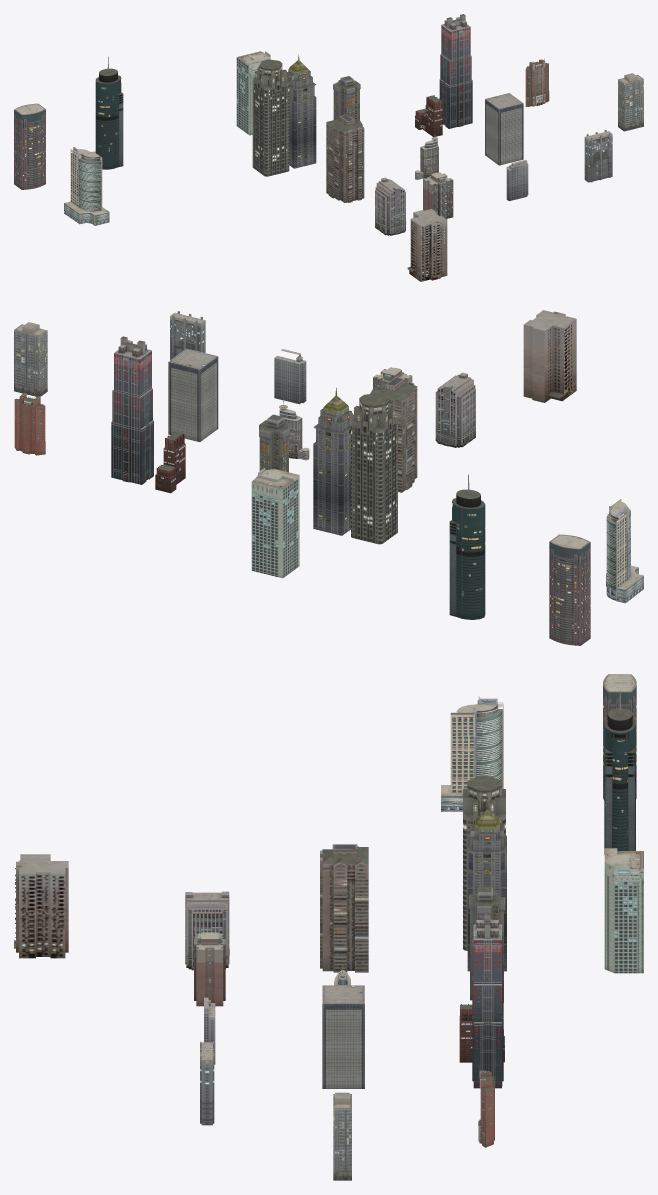
The model's file is night-city-districts.glb.
3 renders of one model, top to bottom at view 1: azimuth 30°, elevation 25°; view 2: azimuth 150°, elevation 25°; view 3: azimuth 270°, elevation 25°, orthographic. The views are drawn at different scales.
Visible parts, largest first — view 1: Asian Night Towers (×4); view 2: Asian Night Towers (×4); view 3: Asian Night Towers (×4).
Boxes of the visible parts, bbox=[...] form: Asian Night Towers (×4): bbox=[14, 14, 643, 281]; Asian Night Towers (×4): bbox=[14, 310, 643, 645]; Asian Night Towers (×4): bbox=[14, 674, 643, 1180].
Bounding box in the file's own units: 229 × 44.55 × 155.
Materials: 2 (2 with a texture image).
